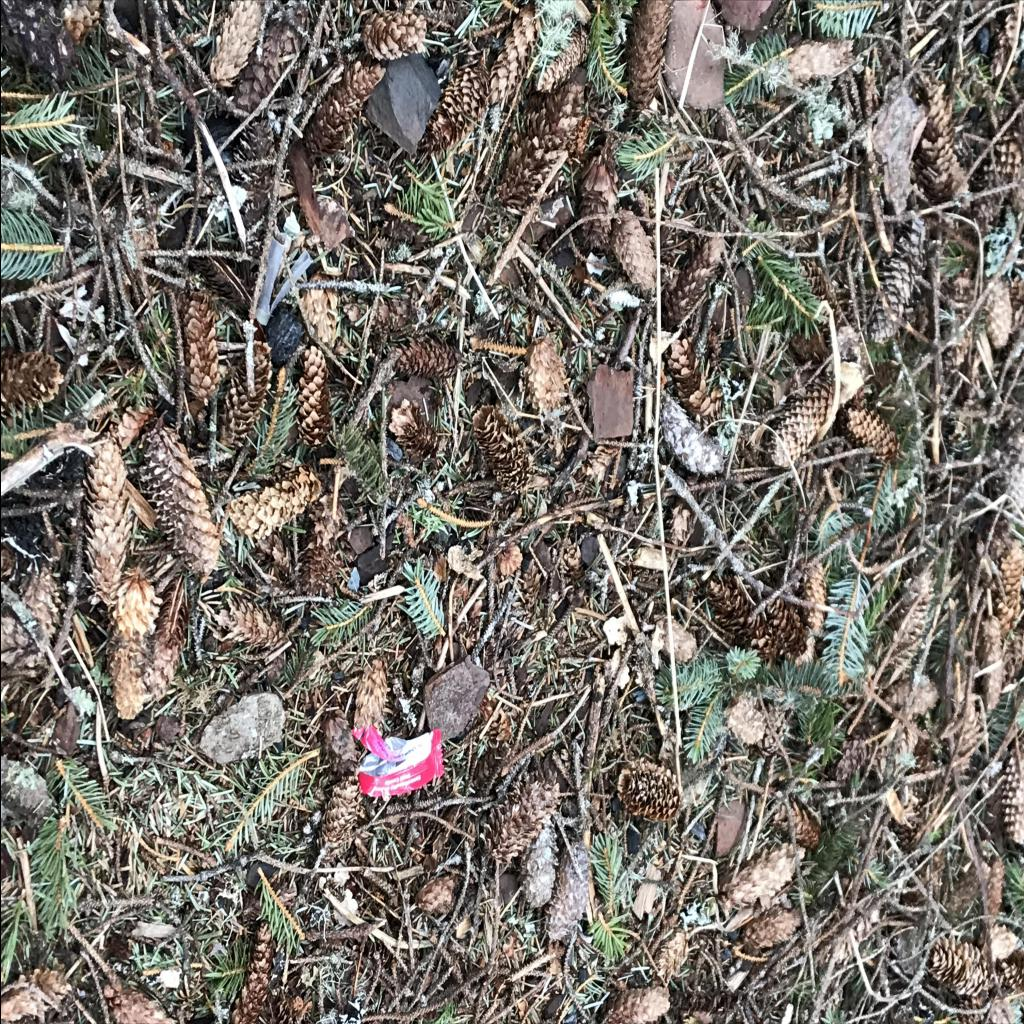Other plastic: (348, 724, 443, 798)
Unlabeled litter: (255, 237, 313, 324)
